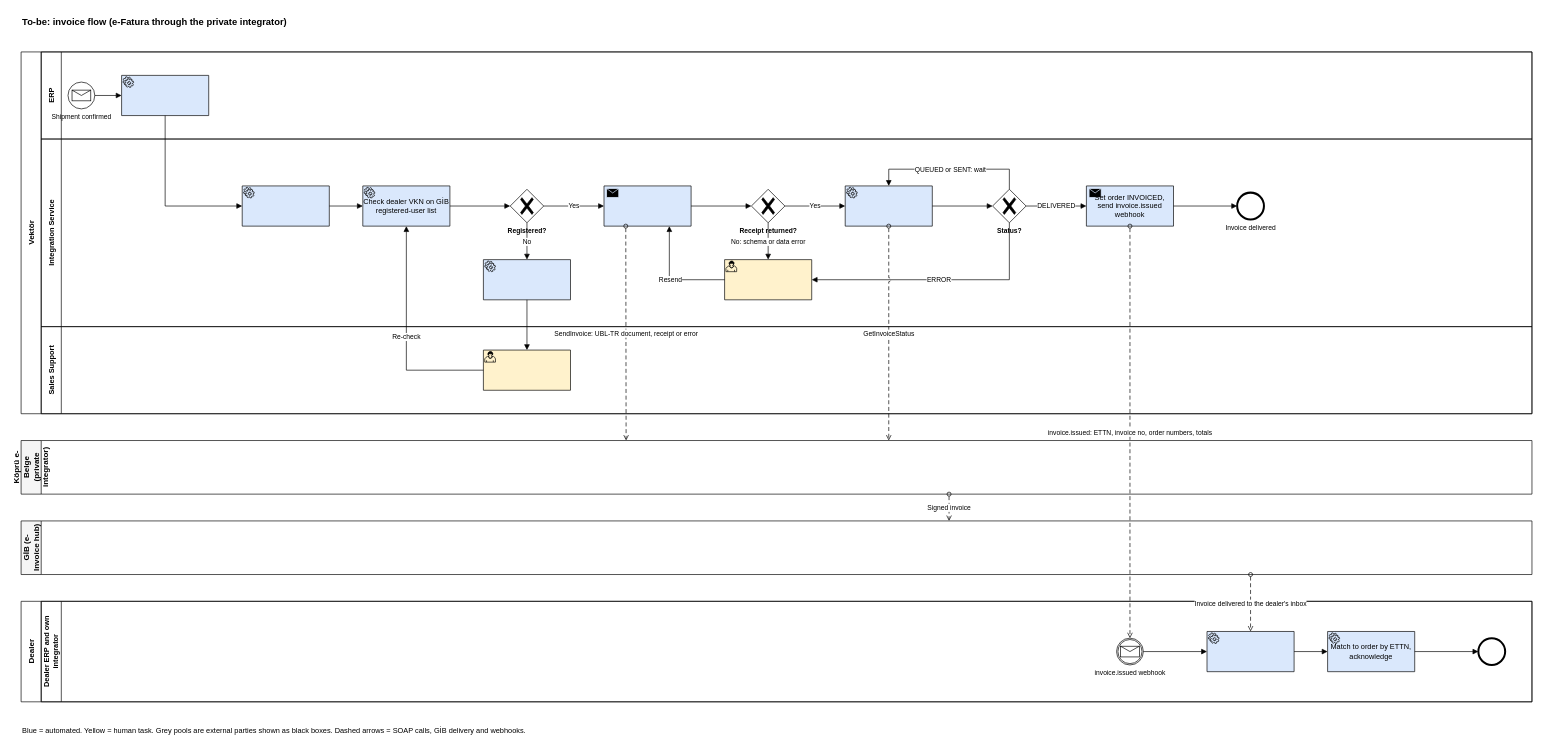
The diagram is 1544 pixels wide and 753 high, and some of its shapes have lost their labels. The box of each missing label's shape, as (x1, y1, x2, y2) in pixels:
Alert integration team, fix, resend: (724, 259, 812, 300)
Call SendInvoice (SOAP): (603, 185, 691, 226)
Correct dealer tax data: (483, 349, 571, 390)
Create invoice, generate ETTN: (121, 75, 209, 116)
Download invoice from own integrator: (1206, 631, 1294, 672)
Hold invoice, create task for sales support: (483, 259, 571, 300)
Map invoice to UBL-TR XML: (242, 185, 329, 226)
Order closed: (1478, 638, 1505, 665)
Poll GetInvoiceStatus by ETTN every 5 min: (845, 185, 932, 226)
